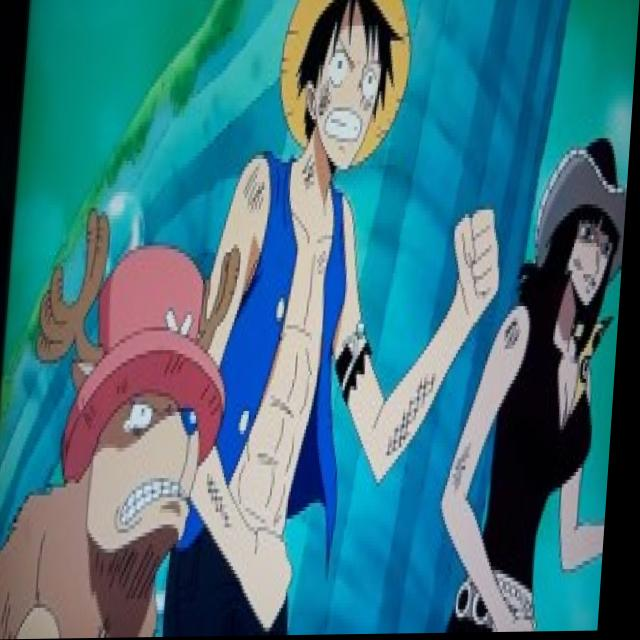Chyopa: (26, 223, 242, 550)
Luffy: (271, 0, 414, 185)
NicoRobin: (525, 121, 633, 323)
